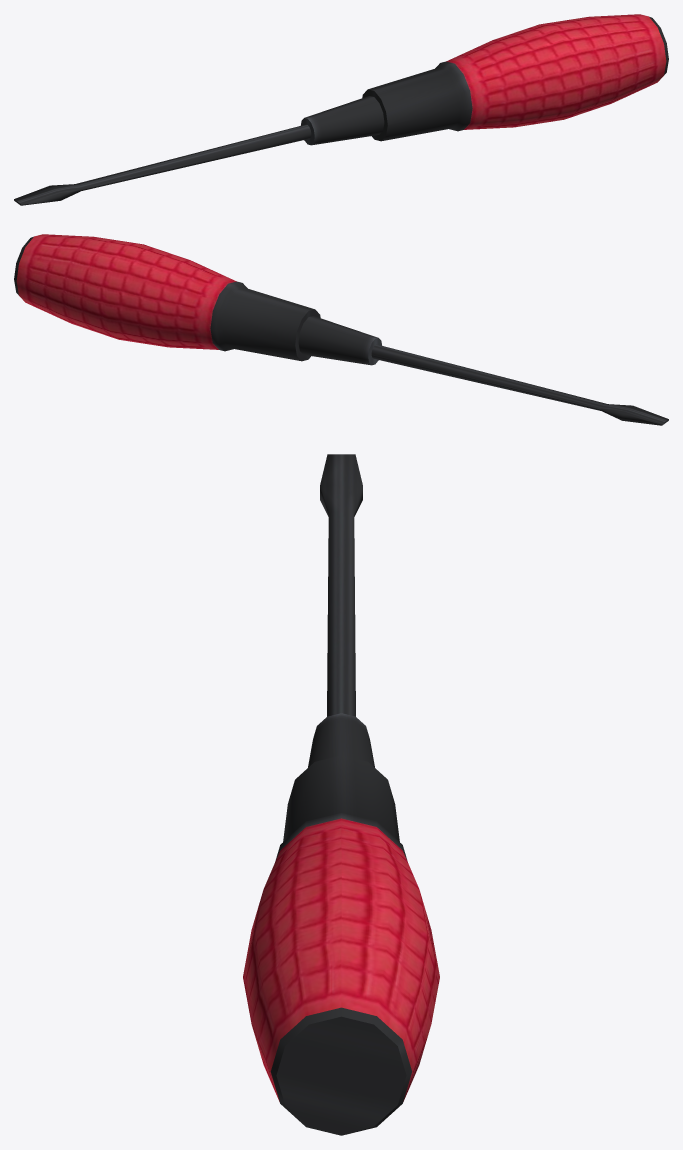
File: luosidao.FBX
3 renders of one model, top to bottom at view 1: azimuth 30°, elevation 25°; view 2: azimuth 150°, elevation 25°; view 3: azimuth 270°, elevation 25°, orthographic. The views are drawn at different scales.
Parts seen in each view (by area): view 1: luosidao; view 2: luosidao; view 3: luosidao.
Boxes of the visible parts, <box> form: luosidao: <box>14,14,668,205</box>; luosidao: <box>14,234,668,425</box>; luosidao: <box>243,454,439,1135</box>.
Bounding box in the file's own units: 0.2106 × 0.0283 × 0.0283.
